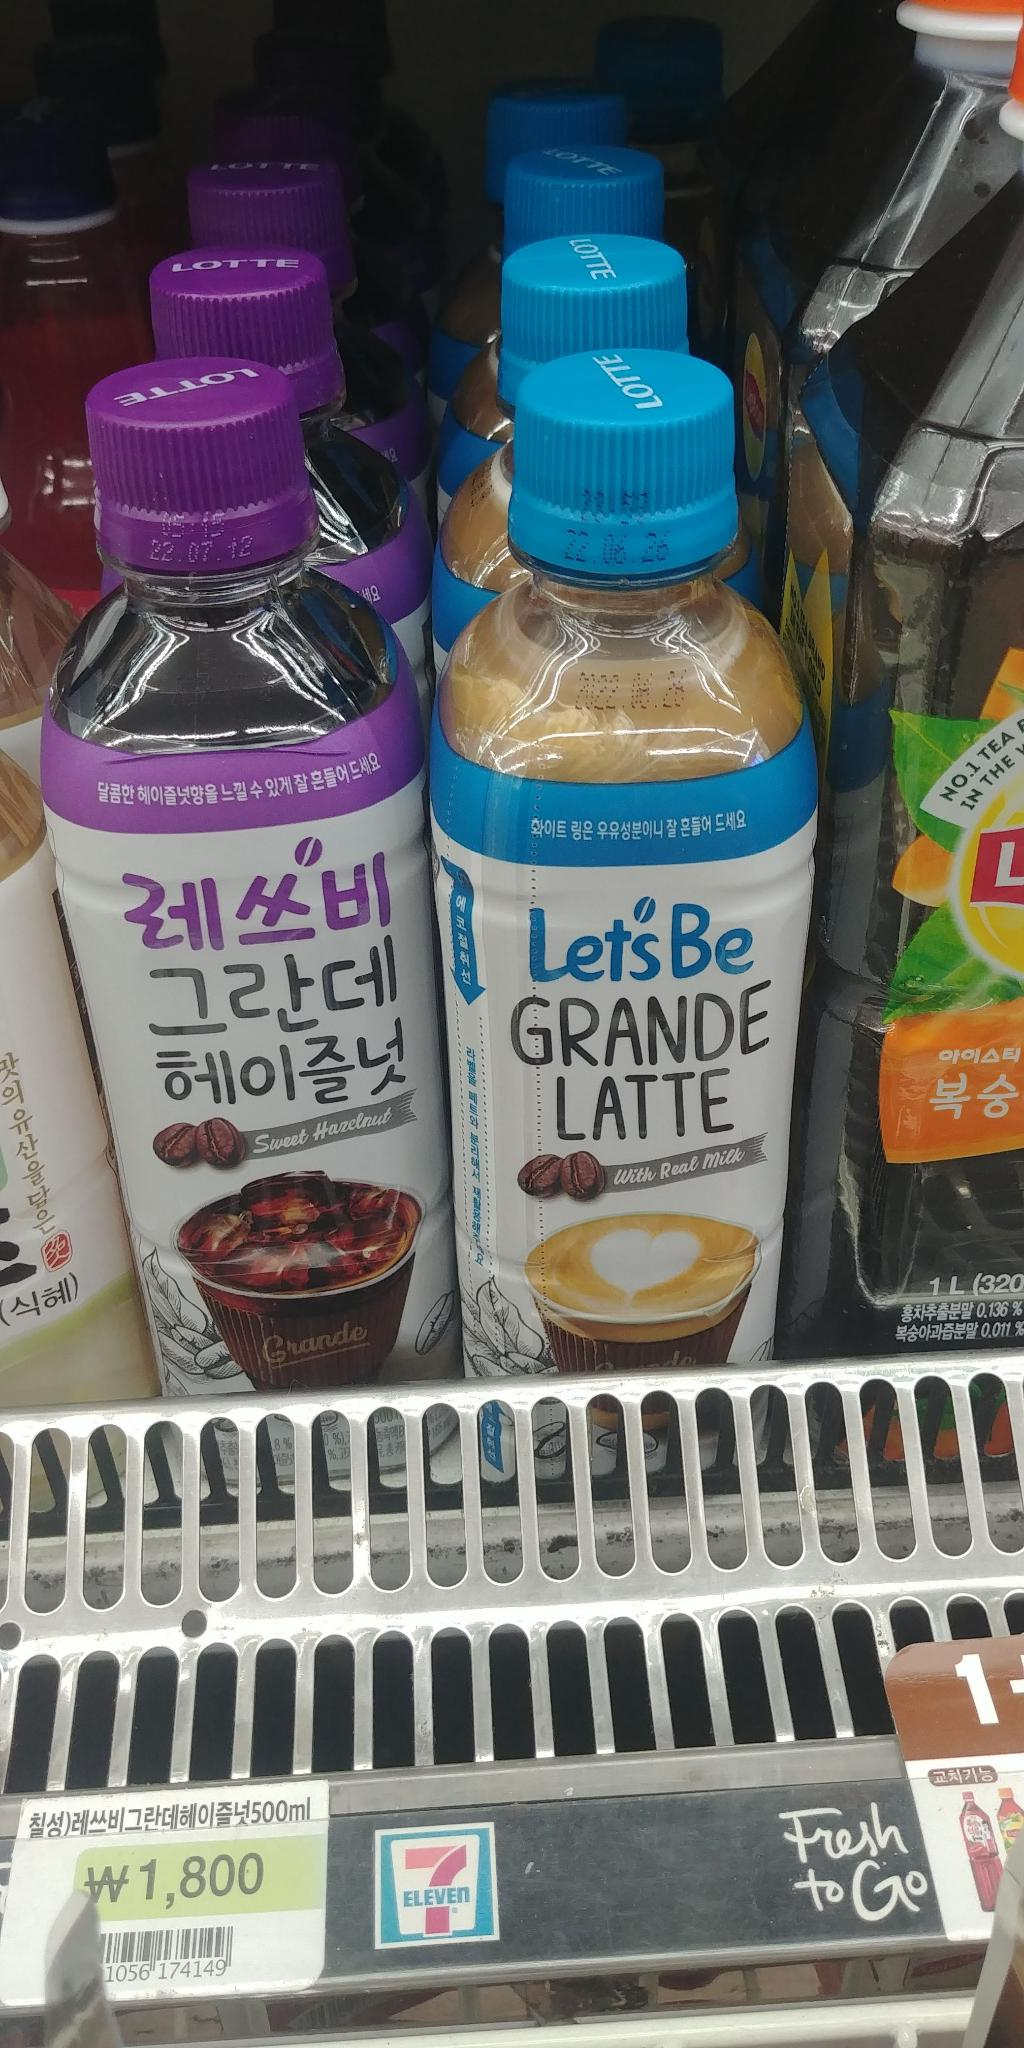letsbe_grande_hazelnut: (57, 340, 487, 1445)
